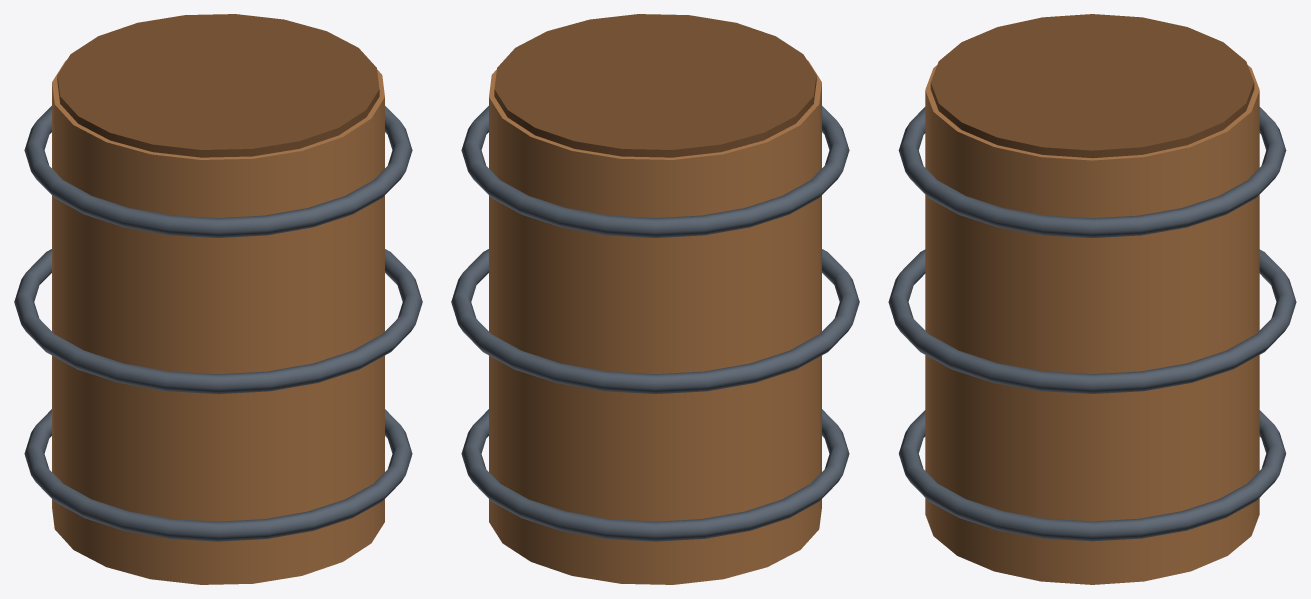
The model's file is barrel.glb.
3 renders of one model, left to right at view 1: azimuth 30°, elevation 25°; view 2: azimuth 150°, elevation 25°; view 3: azimuth 270°, elevation 25°, orthographic.
Parts seen in each view (by area): view 1: BarrelMesh; view 2: BarrelMesh; view 3: BarrelMesh.
Part boxes in pixels (left/top/right/bottom): BarrelMesh: left=14, top=14, right=422, bottom=584; BarrelMesh: left=451, top=14, right=859, bottom=584; BarrelMesh: left=888, top=14, right=1296, bottom=584.
Size of the model in its own units: 0.732 by 0.855 by 0.732.
